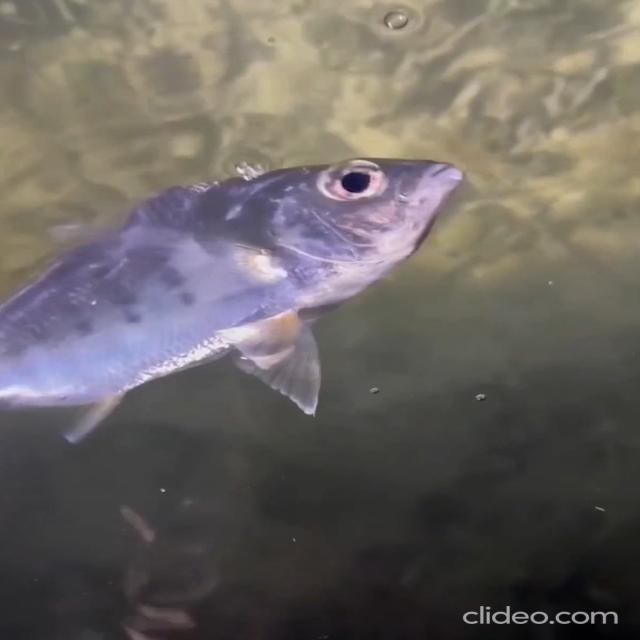fish: (0, 141, 468, 452)
